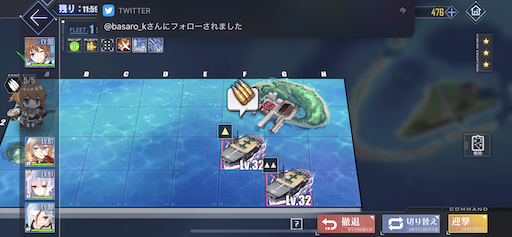lv1: (211, 120, 263, 168)
lv2: (259, 154, 322, 207)
